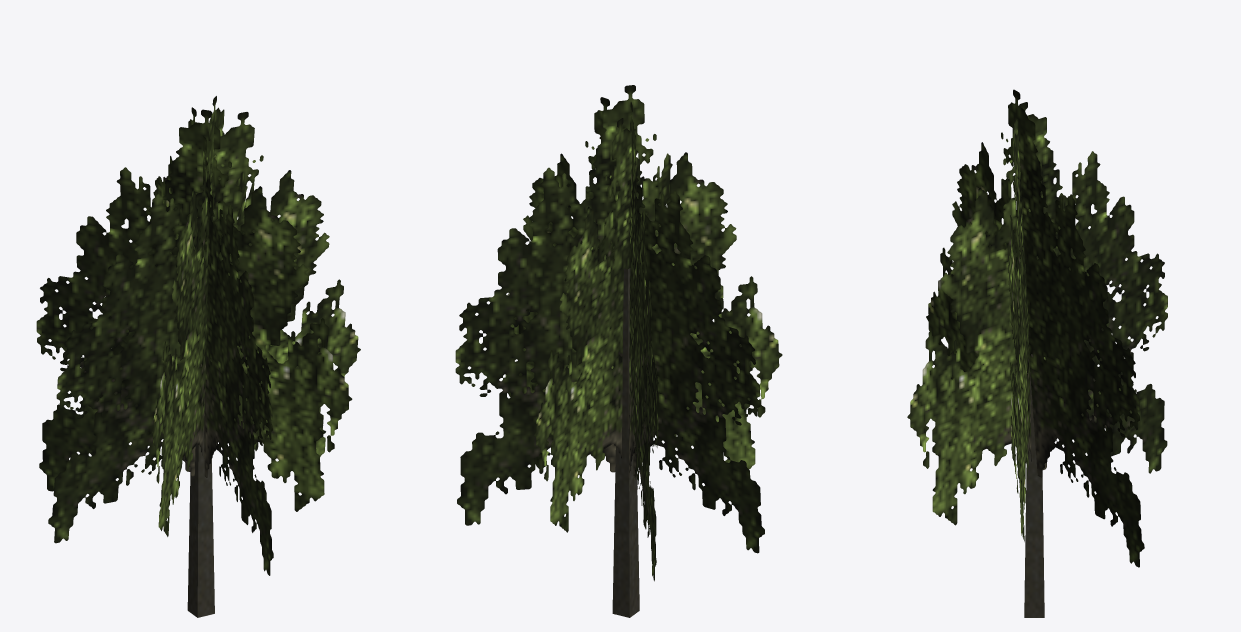
Rendered from Tree_8.fbx.
3 views of the same model, side by side, from view 1: azimuth 30°, elevation 25°; view 2: azimuth 150°, elevation 25°; view 3: azimuth 270°, elevation 25° (orthographic).
Visible parts, largest first — view 1: Tree.8; view 2: Tree.8; view 3: Tree.8.
Boxes of the visible parts, x1,y1,x2,y2 form: Tree.8: (36, 96, 360, 617); Tree.8: (455, 85, 782, 617); Tree.8: (907, 89, 1167, 617).
Size of the model in its own units: 641 by 954 by 608.
